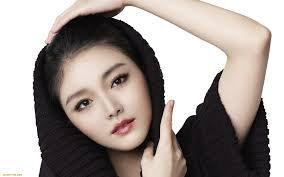Sober: (63, 57, 147, 147)
